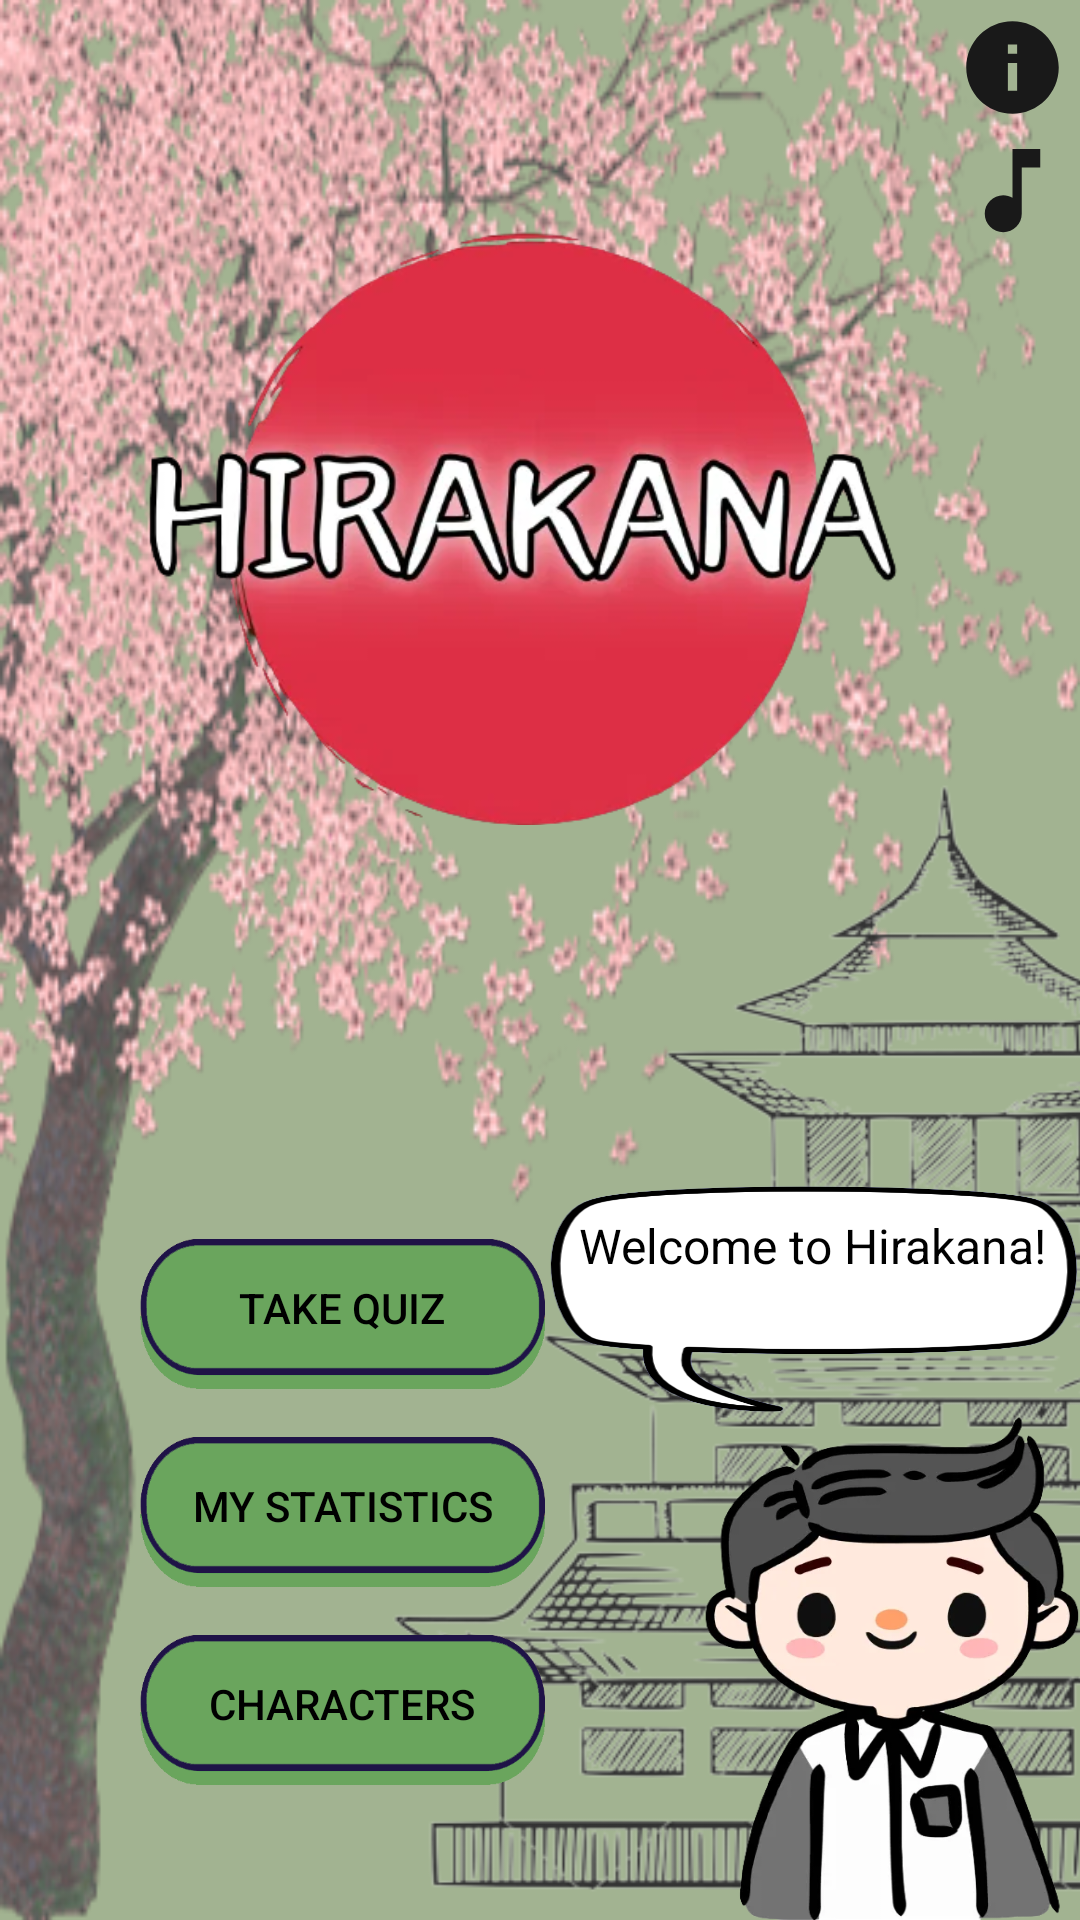

Locate icon controls on the screen. Image size 1080×1920, boxes as (x1, y1, x2, y2).
bgm on: (957, 135, 1041, 246)
info: (957, 21, 1059, 123)
